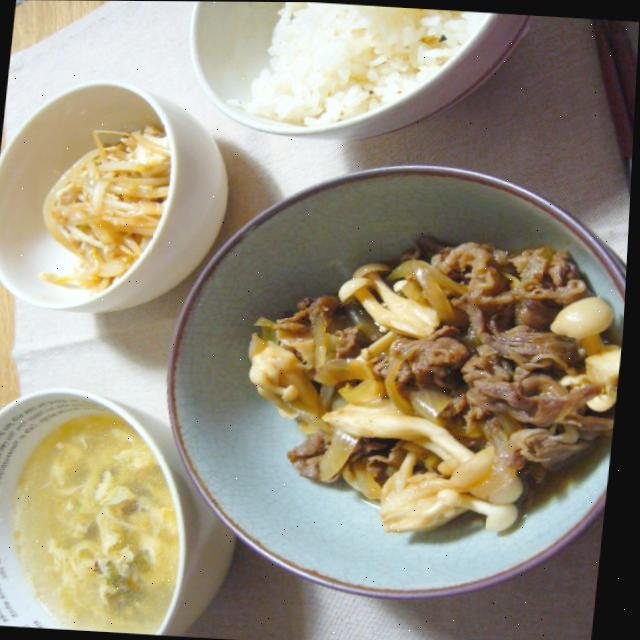米饭主食: (175, 1, 505, 142)
